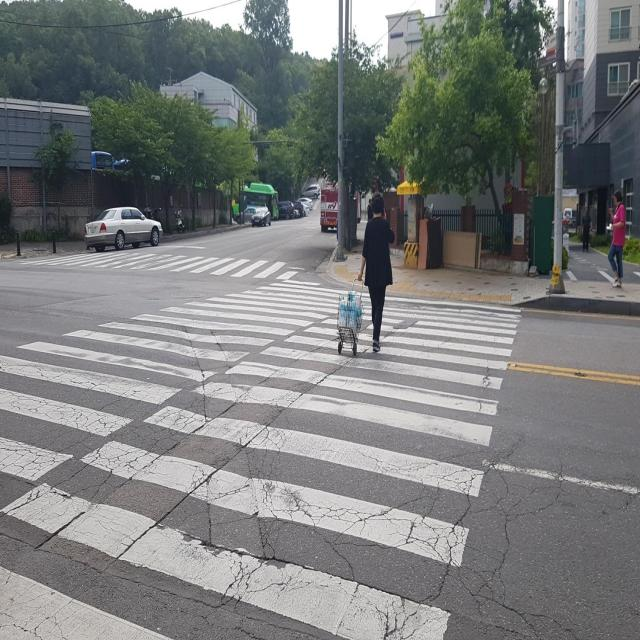횡단보도: (0, 277, 524, 640), (33, 244, 306, 279)
